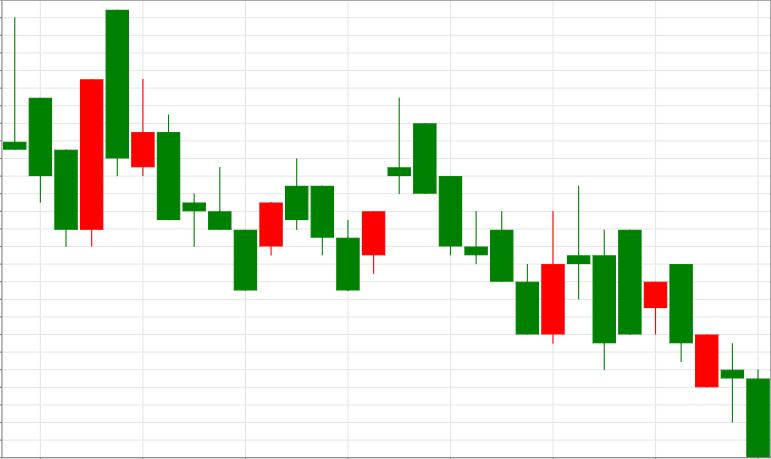bullish_engulfing_rise: (388, 100, 564, 344)
